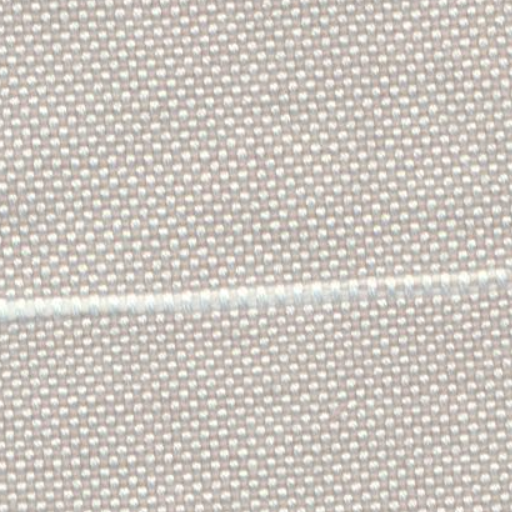DaiSha: (12, 263, 496, 334)
